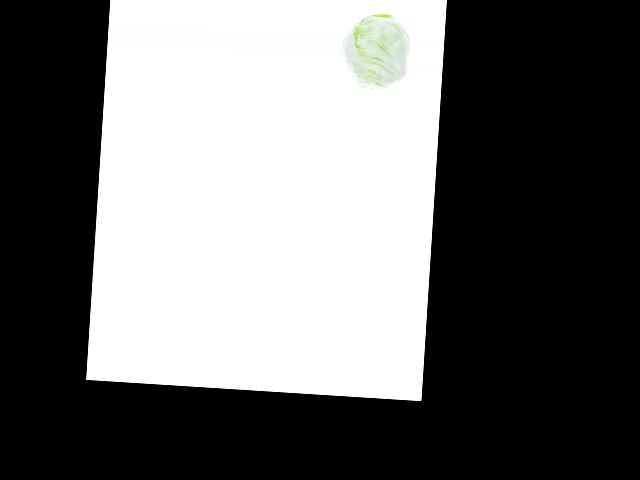lettuce: (341, 13, 408, 90)
